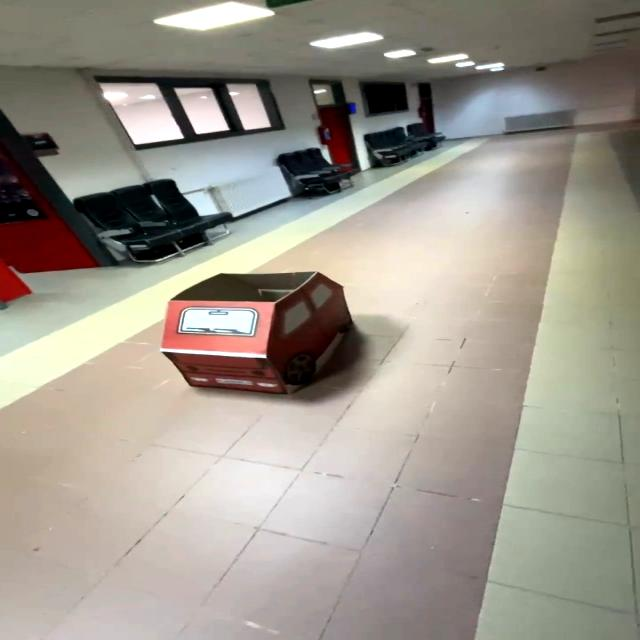red_car: (133, 260, 375, 415)
